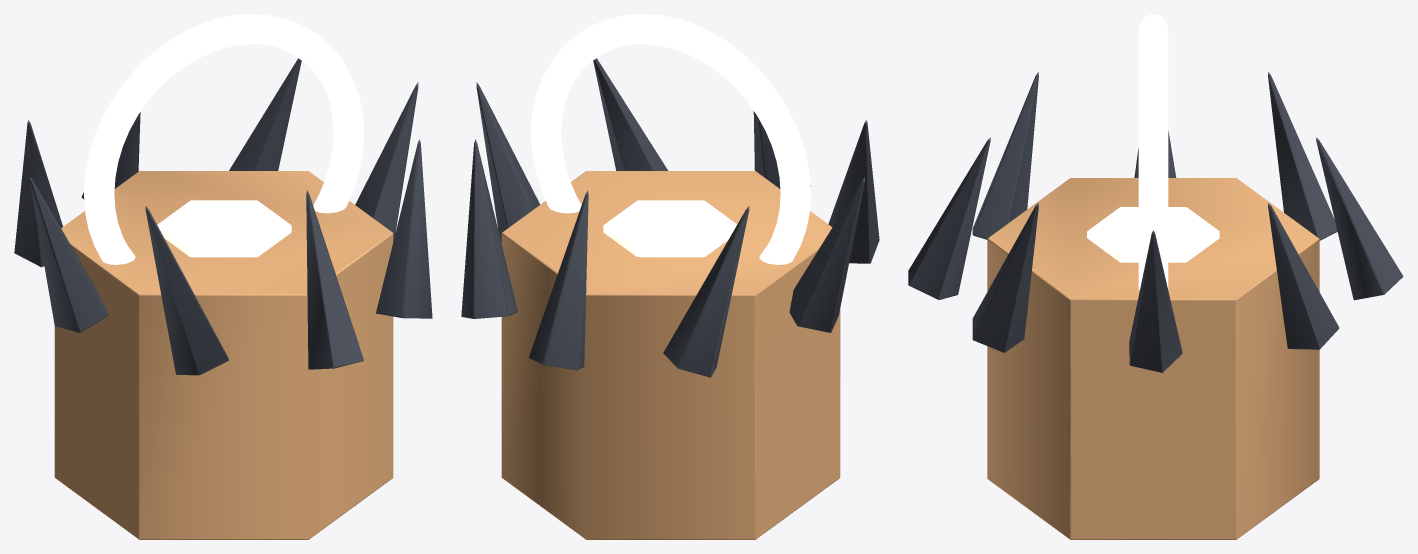
The model's file is SM_Boss_Kochbrunnen_LOD1.fbx.
The picture shows the model from 3 angles, left to right: view 1: azimuth 30°, elevation 25°; view 2: azimuth 150°, elevation 25°; view 3: azimuth 270°, elevation 25°; orthographic projection.
Parts seen in each view (by area): view 1: SM_Boss_Kochbrunnen_LOD1; view 2: SM_Boss_Kochbrunnen_LOD1; view 3: SM_Boss_Kochbrunnen_LOD1.
Part boxes in pixels (x1,y1,x2,y2): SM_Boss_Kochbrunnen_LOD1: (14, 14, 432, 539); SM_Boss_Kochbrunnen_LOD1: (461, 14, 879, 539); SM_Boss_Kochbrunnen_LOD1: (908, 14, 1403, 539).
Size of the model in its own units: 3.4 by 3.91 by 3.82.
